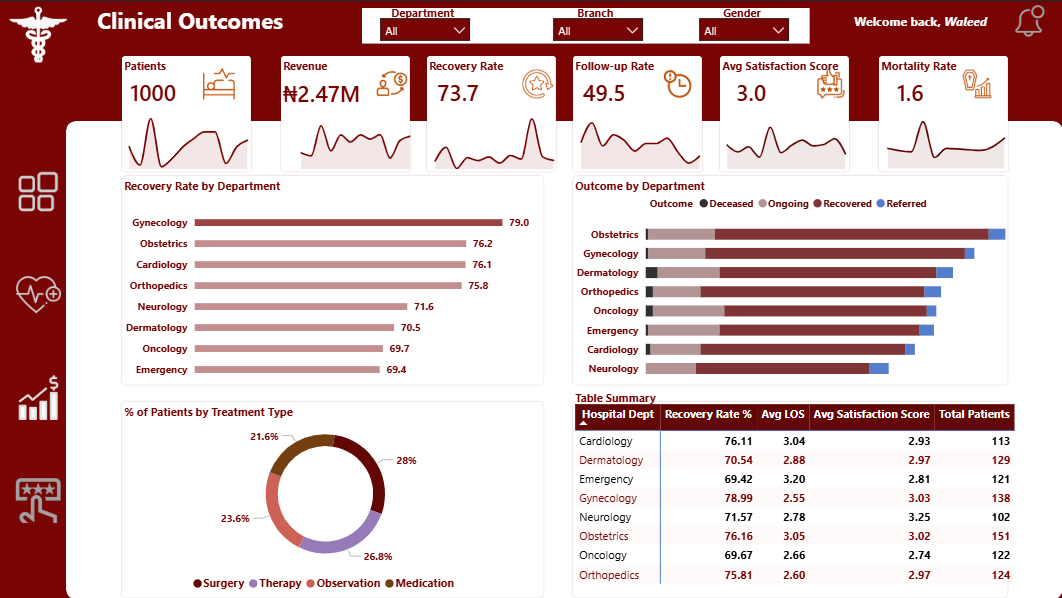

This screenshot's page, from the dashboard's own definition file:
{"tool":"powerbi","page":{"name":"Clinical Insights","canvas":[1280,720],"ordinal":2},"visuals":[{"type":"shape","box":[80,144,1200,576],"z":0},{"type":"shape","box":[144,64,160,144],"z":1000},{"type":"shape","box":[433,6,544,48],"z":2000},{"type":"shape","box":[144,208,512,256],"z":3000},{"type":"shape","box":[688,480,528,240],"z":4000},{"type":"shape","box":[688,208,528,256],"z":5000},{"type":"shape","box":[144,480,512,240],"z":6000},{"type":"clusteredBarChart","fields":{"Category":["healthcare_dataset_1000_rows.Hospital Department"],"Y":["_Measures.Recovery Rate %"]},"box":[144,240,512,224],"z":7000},{"type":"barChart","fields":{"Y":["_Measures.Total Patients"],"Category":["healthcare_dataset_1000_rows.Hospital Department"],"Series":["healthcare_dataset_1000_rows.Outcome"]},"box":[688,224,528,240],"z":8000},{"type":"slicer","fields":{"Values":["DateTable.Month Name"]},"box":[448,10.8,128,48],"z":9000},{"type":"slicer","fields":{"Values":["healthcare_dataset_1000_rows.Insurance Type"]},"box":[656,10.8,128,48],"z":10000},{"type":"slicer","fields":{"Values":["healthcare_dataset_1000_rows.Age Group"]},"box":[832,10.8,128,48],"z":11000},{"type":"textbox","box":[865.5,0,64,32],"z":12000},{"type":"textbox","box":[689.5,0,64,32],"z":13000},{"type":"textbox","box":[465.5,0,96,32],"z":14000},{"type":"textbox","box":[419,64,64,32],"z":15000},{"type":"card","fields":{"Values":["_Measures.Total Patients"]},"box":[144,80,80,64],"z":16000},{"type":"lineChart","fields":{"Y":["_Measures.Total Patients"],"Category":["DateTable.Month Number"]},"box":[128,128,224,80],"z":17000},{"type":"textbox","box":[144,64,64,32],"z":18000},{"type":"donutChart","fields":{"Category":["healthcare_dataset_1000_rows.Treatment Type"],"Y":["_Measures.Total Patients"]},"box":[176,496,432,224],"z":19000},{"type":"pivotTable","fields":{"Rows":["healthcare_dataset_1000_rows.Hospital Department"],"Values":["_Measures.Recovery Rate %","_Measures.Avg Length of Stay","_Measures.Avg Satisfaction Score","_Measures.Total Patients"]},"box":[688,480,544,240],"z":20000},{"type":"textbox","box":[144,208,208,32],"z":21000},{"type":"textbox","box":[688,208,208,32],"z":22000},{"type":"textbox","box":[144,480,240,32],"z":23000},{"type":"textbox","box":[688,464,208,32],"z":24000},{"type":"shape","box":[336,64,160,144],"z":25000},{"type":"lineChart","fields":{"Category":["DateTable.Month Number"],"Y":["_Measures.Total Revenue"]},"box":[336,128,208,80],"z":26000},{"type":"card","fields":{"Values":["_Measures.Total Revenue"]},"box":[331.6,96,112,32],"z":27000},{"type":"shape","box":[512,64,160,144],"z":28000},{"type":"textbox","box":[512,64,112,32],"z":29000},{"type":"lineChart","fields":{"Category":["DateTable.Month Number"],"Y":["_Measures.Recovery Rate %"]},"box":[496,128,224,80],"z":30000},{"type":"card","fields":{"Values":["_Measures.Recovery Rate %"]},"box":[512,80,80,64],"z":31000},{"type":"textbox","box":[336,64,64,32],"z":32000},{"type":"shape","box":[688,64,160,144],"z":33000},{"type":"card","fields":{"Values":["_Measures.Follow-Up Rate %"]},"box":[688,80,80,64],"z":34000},{"type":"textbox","box":[688,64,112,32],"z":35000},{"type":"lineChart","fields":{"Category":["DateTable.Month Number"],"Y":["_Measures.Follow-Up Rate %"]},"box":[672,128,224,80],"z":36000},{"type":"shape","box":[864,64,160,144],"z":37000},{"type":"textbox","box":[864,64,160,32],"z":38000},{"type":"card","fields":{"Values":["_Measures.Avg Satisfaction Score"]},"box":[864,80,80,64],"z":39000},{"type":"lineChart","fields":{"Category":["DateTable.Month Number"],"Y":["_Measures.Avg Satisfaction Score"]},"box":[848,128,224,80],"z":40000},{"type":"shape","box":[1056,64,160,144],"z":41000},{"type":"textbox","box":[1056,64,112,32],"z":42000},{"type":"card","fields":{"Values":["_Measures.Mortality Rate %"]},"box":[1056,80,80,64],"z":43000},{"type":"lineChart","fields":{"Category":["DateTable.Month Number"],"Y":["_Measures.Mortality Rate %"]},"box":[1040,128,240,80],"z":44000},{"type":"textbox","box":[112,0,240,48],"z":45000},{"type":"image","box":[1152,75.8,48,48],"z":46000},{"type":"image","box":[976,75.8,48,48],"z":47000},{"type":"image","box":[624,75.8,48,48],"z":48000},{"type":"image","box":[240,67.8,48,64],"z":49000},{"type":"image","box":[448,67.8,48,64],"z":50000},{"type":"image","box":[784,75.8,64,48],"z":51000},{"type":"image","box":[6.4,198,80,64],"z":52000},{"type":"image","box":[14.4,322,64,64],"z":53000},{"type":"image","box":[14.4,446,64,64],"z":54000},{"type":"image","box":[6.4,570,80,64],"z":55000},{"type":"image","box":[6.4,0,80,80],"z":56000},{"type":"image","box":[1216,0,48,48],"z":57000},{"type":"textbox","box":[1024,10,176,32],"z":58000}]}

Visuals, with their boxes on the page's 1280x720 design canvas (x1, y1, x2, y2). These are canvas units, not pixel positions in the 1062x598 screenshot, which may show the page scaled, cropped or inside an application window:
shape: box=[80, 144, 1280, 720]
shape: box=[144, 64, 304, 208]
shape: box=[433, 6, 977, 54]
shape: box=[144, 208, 656, 464]
shape: box=[688, 480, 1216, 720]
shape: box=[688, 208, 1216, 464]
shape: box=[144, 480, 656, 720]
clusteredBarChart - healthcare_dataset_1000_rows.Hospital Department x _Measures.Recovery Rate %: box=[144, 240, 656, 464]
barChart - _Measures.Total Patients x healthcare_dataset_1000_rows.Hospital Department: box=[688, 224, 1216, 464]
slicer - DateTable.Month Name: box=[448, 11, 576, 59]
slicer - healthcare_dataset_1000_rows.Insurance Type: box=[656, 11, 784, 59]
slicer - healthcare_dataset_1000_rows.Age Group: box=[832, 11, 960, 59]
textbox: box=[866, 0, 930, 32]
textbox: box=[690, 0, 754, 32]
textbox: box=[466, 0, 562, 32]
textbox: box=[419, 64, 483, 96]
card - _Measures.Total Patients: box=[144, 80, 224, 144]
lineChart - _Measures.Total Patients x DateTable.Month Number: box=[128, 128, 352, 208]
textbox: box=[144, 64, 208, 96]
donutChart - healthcare_dataset_1000_rows.Treatment Type x _Measures.Total Patients: box=[176, 496, 608, 720]
pivotTable - healthcare_dataset_1000_rows.Hospital Department x _Measures.Recovery Rate %: box=[688, 480, 1232, 720]
textbox: box=[144, 208, 352, 240]
textbox: box=[688, 208, 896, 240]
textbox: box=[144, 480, 384, 512]
textbox: box=[688, 464, 896, 496]
shape: box=[336, 64, 496, 208]
lineChart - DateTable.Month Number x _Measures.Total Revenue: box=[336, 128, 544, 208]
card - _Measures.Total Revenue: box=[332, 96, 444, 128]
shape: box=[512, 64, 672, 208]
textbox: box=[512, 64, 624, 96]
lineChart - DateTable.Month Number x _Measures.Recovery Rate %: box=[496, 128, 720, 208]
card - _Measures.Recovery Rate %: box=[512, 80, 592, 144]
textbox: box=[336, 64, 400, 96]
shape: box=[688, 64, 848, 208]
card - _Measures.Follow-Up Rate %: box=[688, 80, 768, 144]
textbox: box=[688, 64, 800, 96]
lineChart - DateTable.Month Number x _Measures.Follow-Up Rate %: box=[672, 128, 896, 208]
shape: box=[864, 64, 1024, 208]
textbox: box=[864, 64, 1024, 96]
card - _Measures.Avg Satisfaction Score: box=[864, 80, 944, 144]
lineChart - DateTable.Month Number x _Measures.Avg Satisfaction Score: box=[848, 128, 1072, 208]
shape: box=[1056, 64, 1216, 208]
textbox: box=[1056, 64, 1168, 96]
card - _Measures.Mortality Rate %: box=[1056, 80, 1136, 144]
lineChart - DateTable.Month Number x _Measures.Mortality Rate %: box=[1040, 128, 1280, 208]
textbox: box=[112, 0, 352, 48]
image: box=[1152, 76, 1200, 124]
image: box=[976, 76, 1024, 124]
image: box=[624, 76, 672, 124]
image: box=[240, 68, 288, 132]
image: box=[448, 68, 496, 132]
image: box=[784, 76, 848, 124]
image: box=[6, 198, 86, 262]
image: box=[14, 322, 78, 386]
image: box=[14, 446, 78, 510]
image: box=[6, 570, 86, 634]
image: box=[6, 0, 86, 80]
image: box=[1216, 0, 1264, 48]
textbox: box=[1024, 10, 1200, 42]
